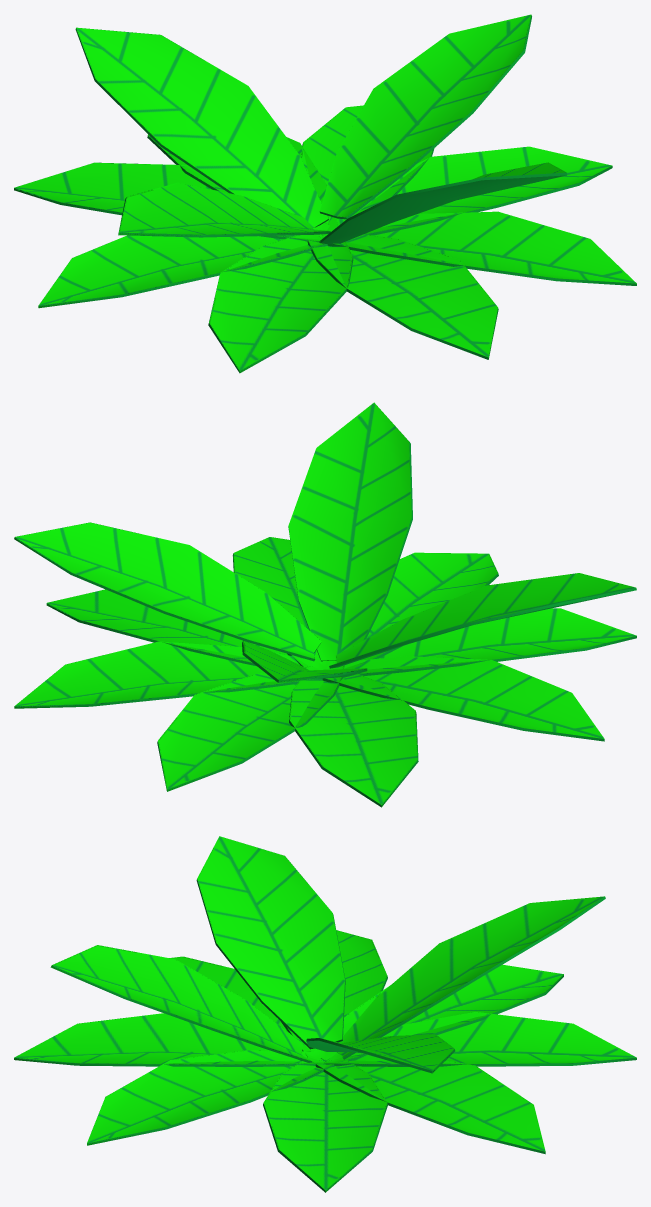
File: Grass.FBX
The picture shows the model from 3 angles, top to bottom: view 1: azimuth 30°, elevation 25°; view 2: azimuth 150°, elevation 25°; view 3: azimuth 270°, elevation 25°; orthographic projection. The views are drawn at different scales.
Parts seen in each view (by area): view 1: GrassBlade008, GrassBlade011, GrassBlade007, GrassBlade, GrassBlade005, GrassBlade002, GrassBlade010, GrassBlade003, GrassBlade004, GrassBlade009, GrassBlade006, GrassBlade001; view 2: GrassBlade009, GrassBlade011, GrassBlade002, GrassBlade004, GrassBlade006, GrassBlade001, GrassBlade007, GrassBlade010, GrassBlade, GrassBlade003, GrassBlade005, GrassBlade008; view 3: GrassBlade010, GrassBlade008, GrassBlade005, GrassBlade003, GrassBlade009, GrassBlade006, GrassBlade, GrassBlade001, GrassBlade004, GrassBlade011, GrassBlade002, GrassBlade007.
Part boxes in pixels (x1,y1,x2,y2): GrassBlade008: (75,27,328,227); GrassBlade011: (319,14,531,219); GrassBlade007: (208,234,353,373); GrassBlade: (307,234,498,359); GrassBlade005: (317,211,636,285); GrassBlade002: (38,227,327,308); GrassBlade010: (118,182,330,237); GrassBlade003: (316,146,612,235); GrassBlade004: (14,162,329,242); GrassBlade009: (320,162,567,244); GrassBlade006: (301,105,434,237); GrassBlade001: (147,134,337,237); GrassBlade009: (288,402,412,661); GrassBlade011: (14,522,321,661); GrassBlade002: (322,656,604,741); GrassBlade004: (289,668,418,807); GrassBlade006: (14,641,322,708); GrassBlade001: (157,666,342,791); GrassBlade007: (321,608,636,677); GrassBlade010: (329,573,636,668); GrassBlade: (312,552,498,669); GrassBlade003: (46,589,334,669); GrassBlade005: (232,537,344,669); GrassBlade008: (242,640,367,682); GrassBlade010: (196,836,345,1049); GrassBlade008: (337,896,605,1059); GrassBlade005: (87,1050,334,1145); GrassBlade003: (263,1057,387,1192); GrassBlade009: (50,945,312,1062); GrassBlade006: (313,1052,545,1154); GrassBlade: (14,1013,325,1066); GrassBlade001: (324,1012,636,1066); GrassBlade004: (314,964,563,1062); GrassBlade011: (306,1034,455,1073); GrassBlade002: (281,930,387,1061); GrassBlade007: (169,956,336,1062).
Bounding box in the file's own units: 2.33 × 0.5906 × 2.33.
